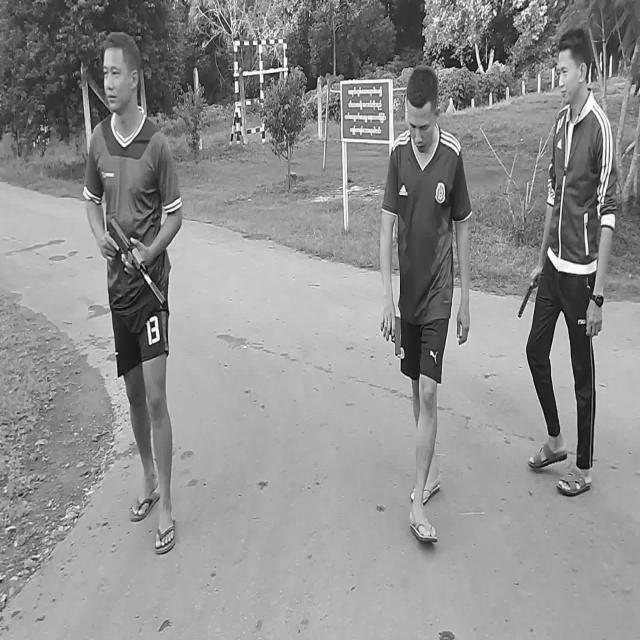gun: (110, 218, 167, 308), (392, 315, 401, 358)
